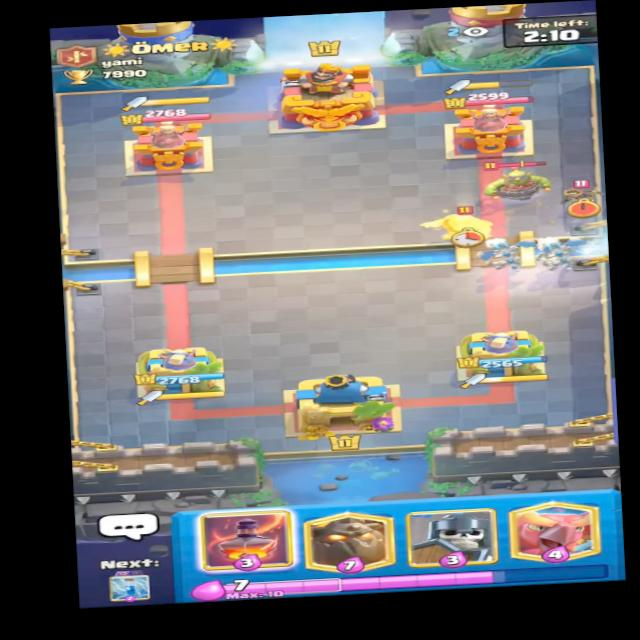goblin-demolisher: (479, 155, 553, 202)
knight: (420, 201, 495, 246)
little-prince: (559, 175, 600, 216)
